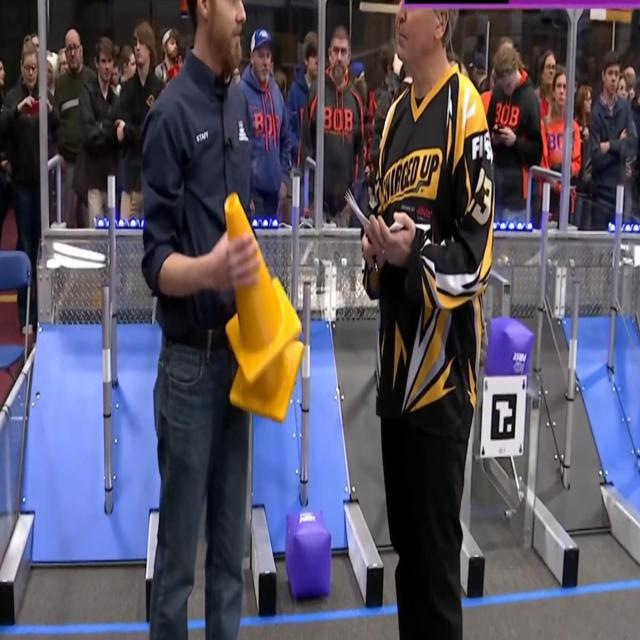frc_cone: (223, 194, 301, 384), (224, 337, 300, 426)
frc_cube: (285, 510, 332, 600), (485, 316, 531, 384)
